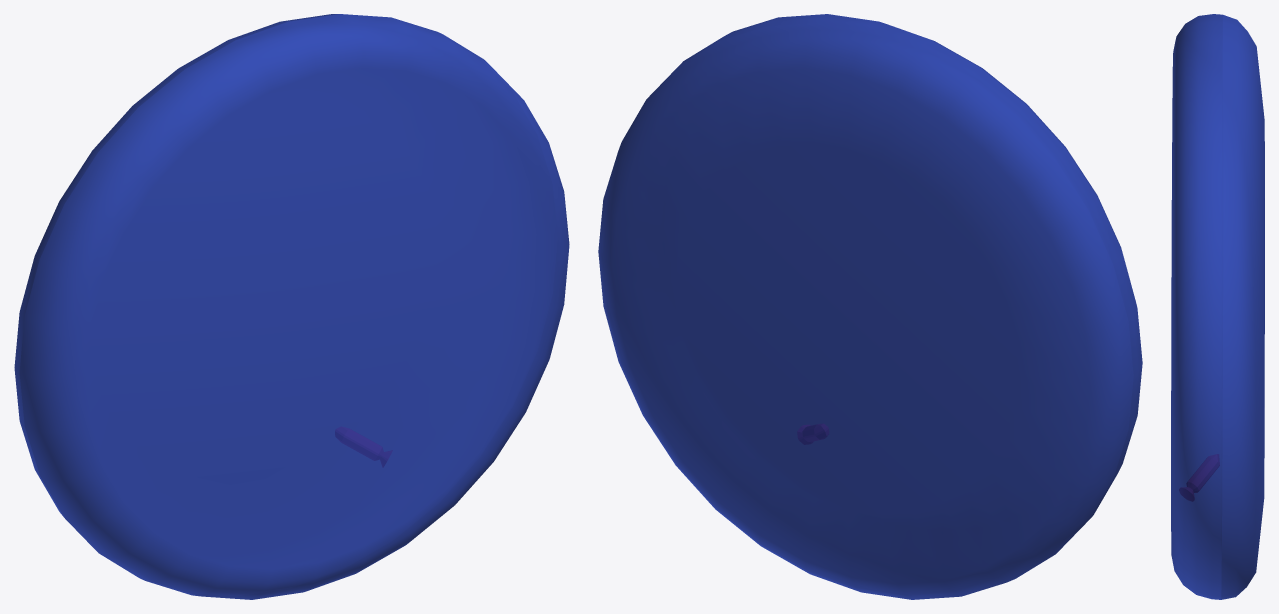
File: Burger_skin_WATER DOWN.fbx
3 views of the same model, side by side, from view 1: azimuth 30°, elevation 25°; view 2: azimuth 150°, elevation 25°; view 3: azimuth 270°, elevation 25° (orthographic). The views are drawn at different scales.
Visible parts, largest first — view 1: Burger Bread Down A; view 2: Burger Bread Down A; view 3: Burger Bread Down A.
Boxes of the visible parts, bbox=[...] form: Burger Bread Down A: bbox=[14, 14, 569, 599]; Burger Bread Down A: bbox=[598, 14, 1142, 599]; Burger Bread Down A: bbox=[1171, 14, 1264, 599].
Size of the model in its own units: 74.8 by 75.16 by 11.99.
